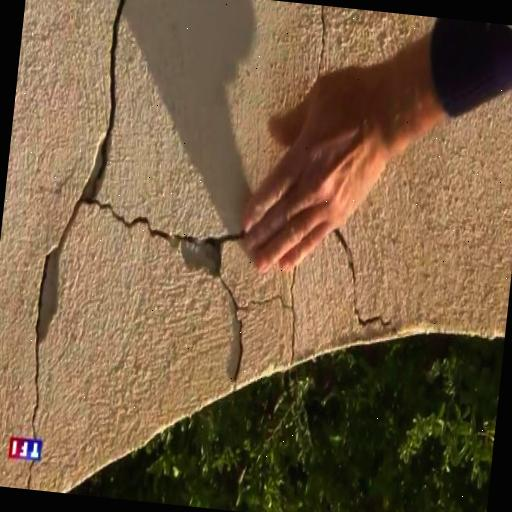spalling: (25, 0, 130, 426), (98, 190, 226, 254), (333, 229, 396, 334), (215, 272, 248, 395)
